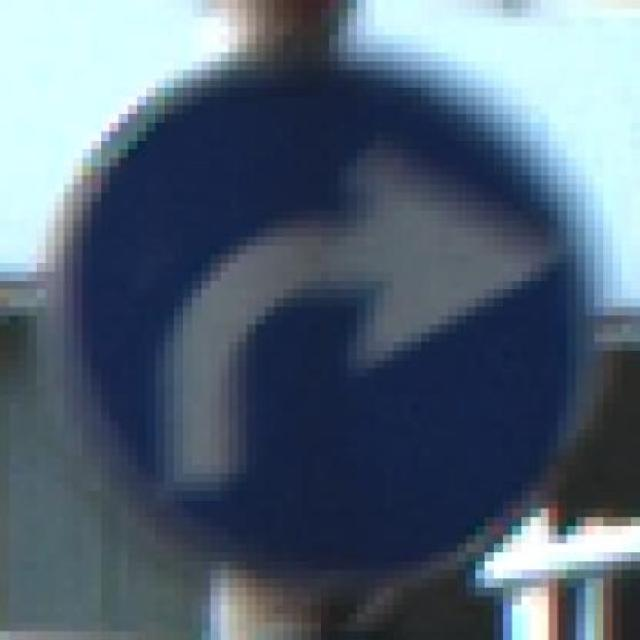Turn right ahead: (27, 44, 613, 596)
